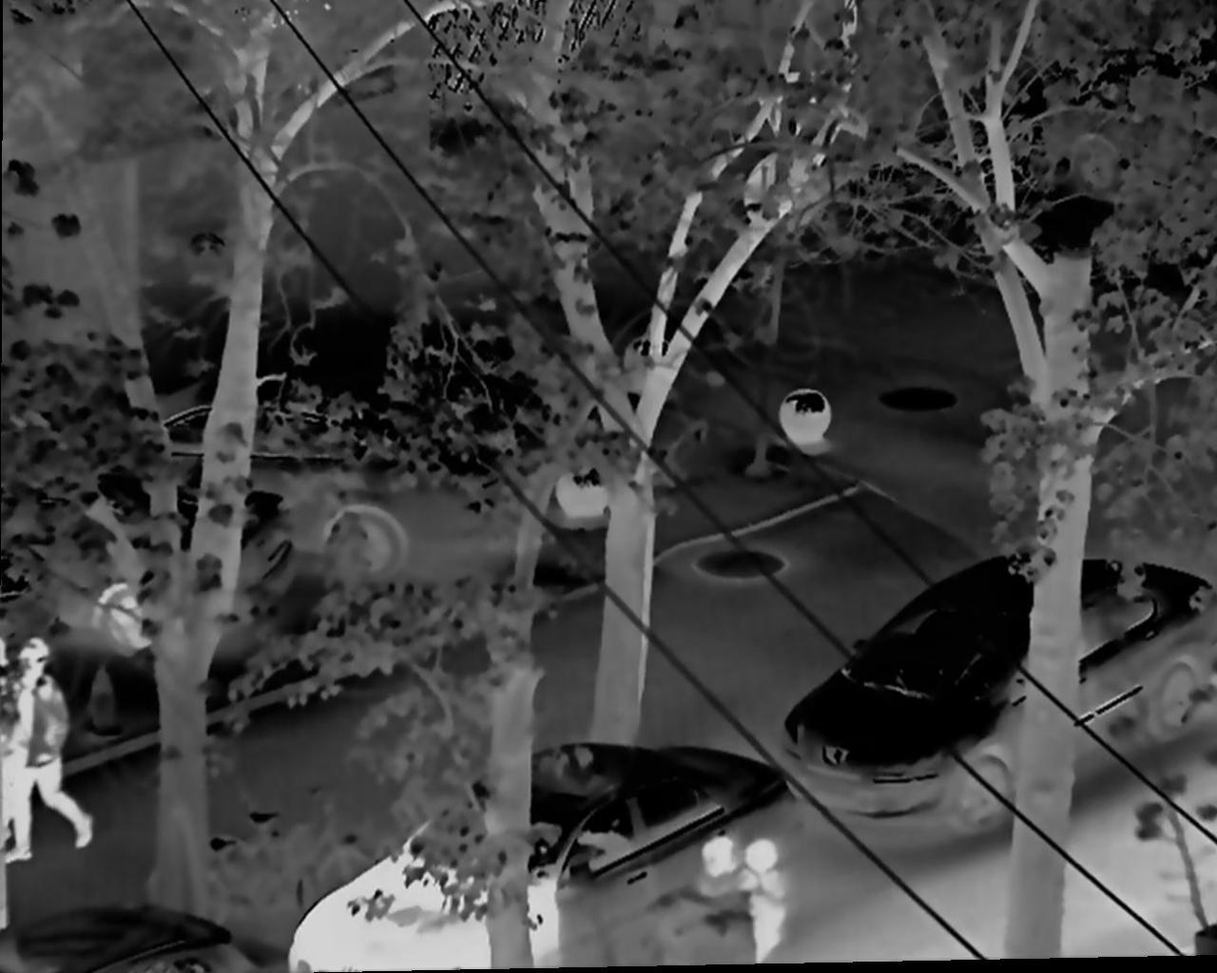person: (8, 640, 93, 860), (723, 834, 788, 963)
